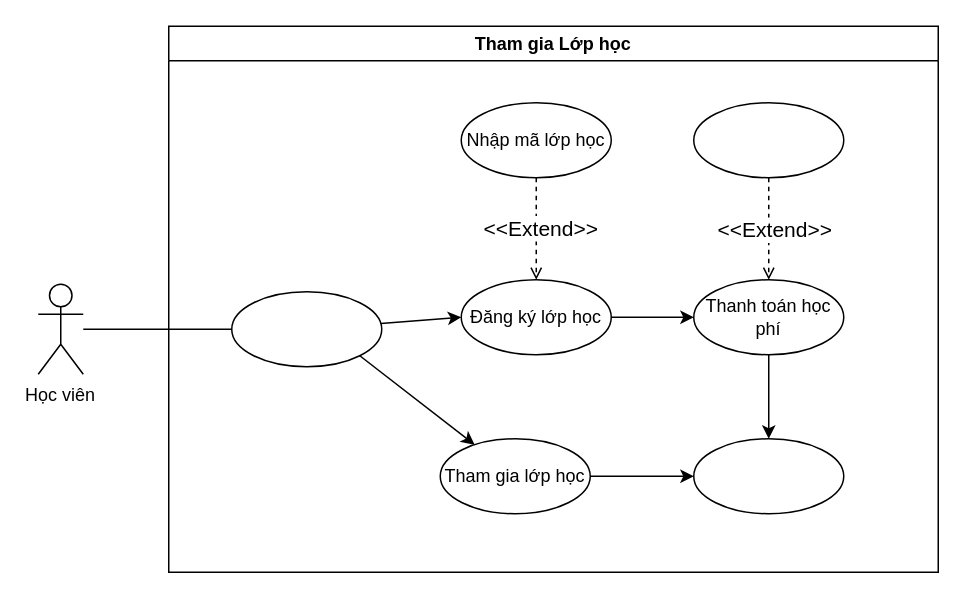
The diagram is 965 pixels wide and 599 high, and some of its shapes have lost their labels. The centre of each missing label's shape, as x and y in pixels:
Chi tiết lớp học: [768,475]
Nhập mã giảm giá: [768,139]
Xem danh sách lớp học: [306,328]
